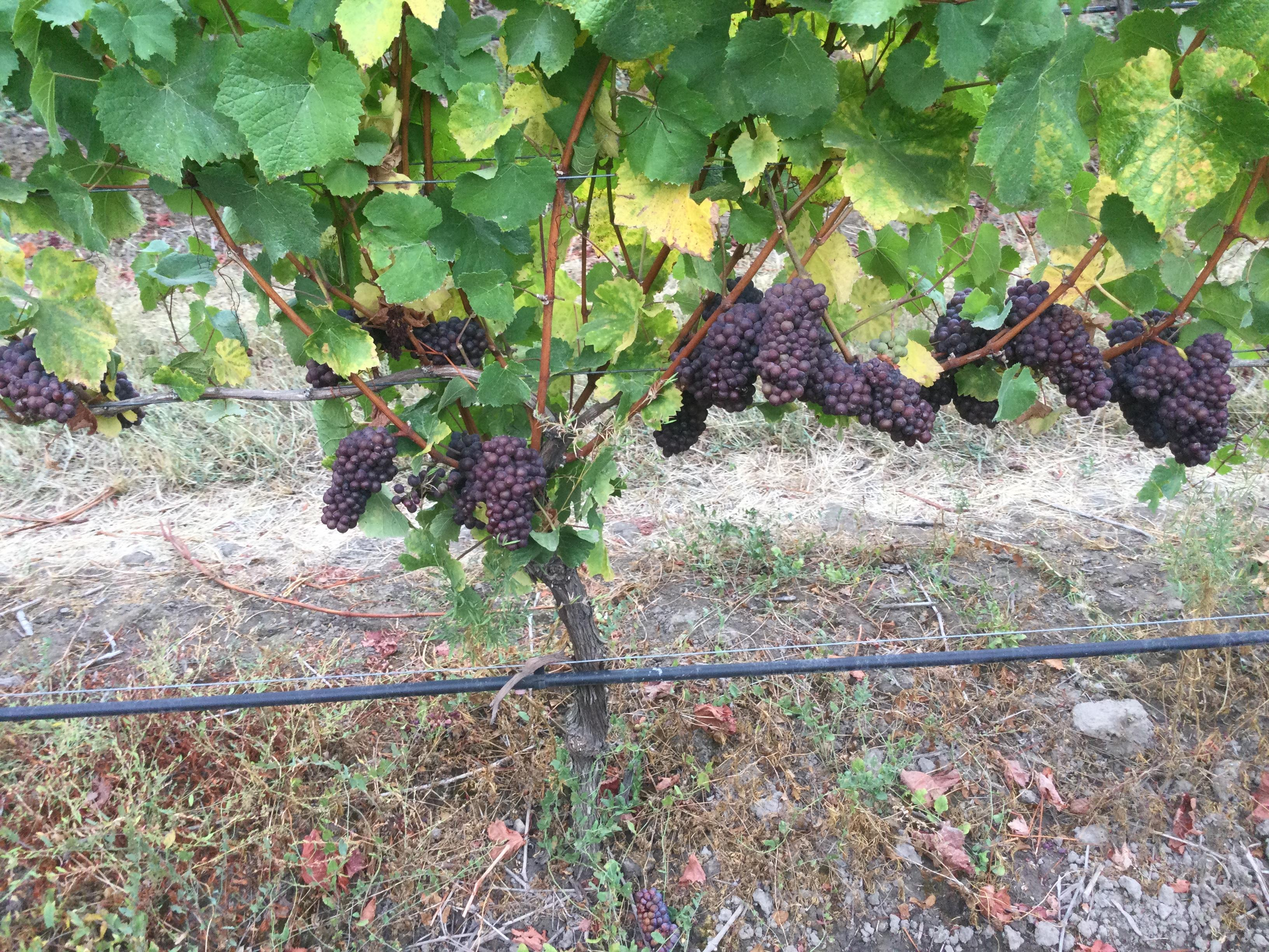leaf: (1099, 48, 1268, 229), (823, 63, 975, 226), (95, 24, 244, 181), (216, 30, 363, 178), (975, 22, 1093, 205), (29, 248, 117, 388), (198, 162, 320, 260), (618, 73, 721, 184), (720, 18, 837, 114), (452, 130, 556, 231), (561, 0, 725, 61), (614, 162, 716, 257), (363, 192, 446, 303), (406, 6, 498, 104), (669, 19, 748, 121), (28, 151, 107, 252), (1084, 10, 1180, 82), (985, 0, 1066, 79), (90, 0, 182, 61), (502, 0, 576, 75), (1180, 0, 1268, 63), (1186, 171, 1249, 255), (935, 0, 998, 81), (304, 309, 379, 376), (581, 278, 643, 359), (1099, 193, 1164, 270), (448, 83, 514, 158), (883, 40, 946, 110), (335, 0, 401, 66), (806, 231, 862, 302), (454, 268, 515, 332), (28, 55, 65, 155), (728, 122, 780, 190), (1036, 190, 1095, 247), (1190, 281, 1251, 333), (858, 225, 907, 285), (189, 299, 247, 348), (476, 360, 533, 406), (146, 252, 216, 289), (1137, 458, 1186, 510), (357, 490, 411, 537), (994, 365, 1038, 420), (827, 0, 916, 26), (152, 359, 207, 401), (967, 222, 1001, 286), (729, 197, 774, 243), (908, 222, 943, 279), (208, 338, 250, 385), (949, 365, 1000, 401), (321, 160, 368, 197), (288, 0, 339, 32), (353, 126, 392, 167), (33, 0, 93, 26), (1241, 187, 1268, 238), (0, 238, 25, 286), (0, 35, 19, 87), (191, 353, 205, 364), (1249, 340, 1262, 342), (465, 87, 470, 90), (820, 247, 822, 252), (178, 355, 185, 356), (803, 218, 806, 220), (416, 13, 418, 16), (741, 176, 746, 177), (940, 43, 941, 45), (345, 0, 346, 2), (795, 229, 796, 231), (813, 259, 814, 261), (645, 388, 645, 388), (431, 24, 435, 24)
